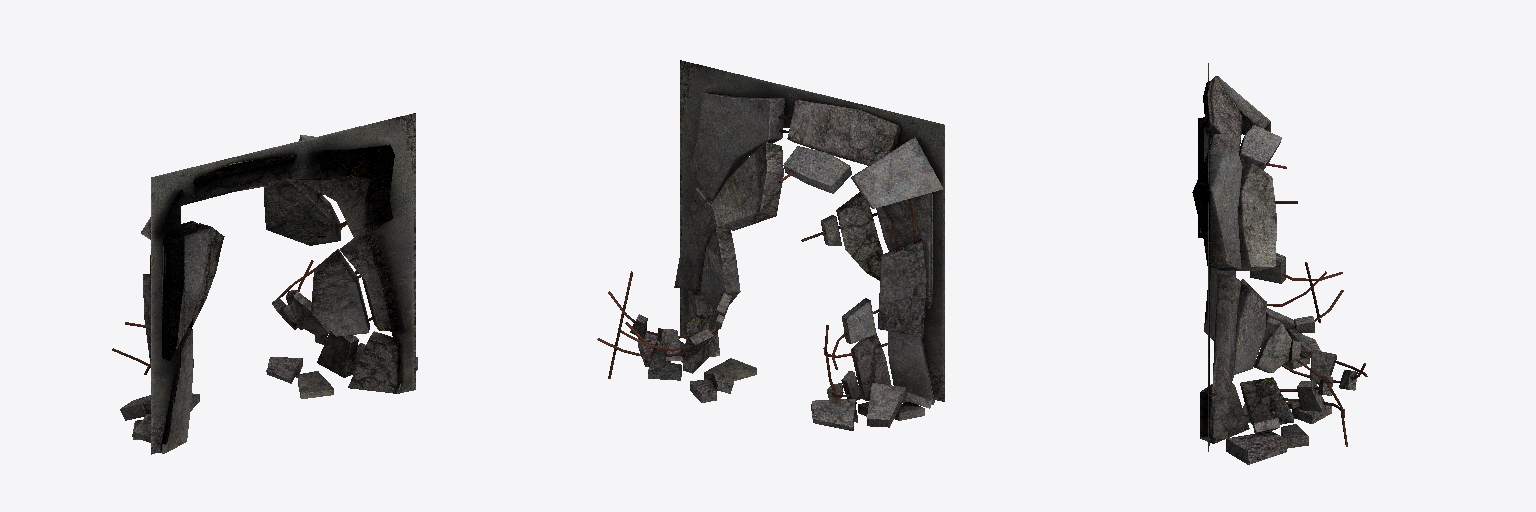
3 views of the same model, side by side, from view 1: azimuth 30°, elevation 25°; view 2: azimuth 150°, elevation 25°; view 3: azimuth 270°, elevation 25° (orthographic).
Parts seen in each view (by area): view 1: ConcreteWall_Hole; view 2: ConcreteWall_Hole; view 3: ConcreteWall_Hole.
Boxes of the visible parts, x1=… form: ConcreteWall_Hole: x1=112, y1=113, x2=417, y2=454; ConcreteWall_Hole: x1=597, y1=60, x2=944, y2=430; ConcreteWall_Hole: x1=1192, y1=63, x2=1367, y2=464.
Bounding box in the file's own units: 281 × 257 × 147.
Materials: 1 (1 with a texture image).